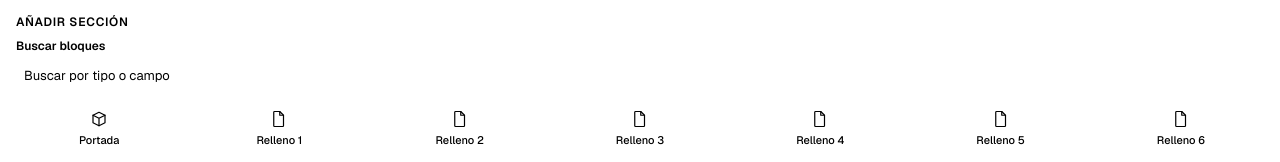
it: VisualPalette.svelte › sin coincidencias muestra vacío y conserva el buscador
Type "galeria" into the search field labelled "Buscar bloques". click: (640, 75)
box: [12,58,1268,92]
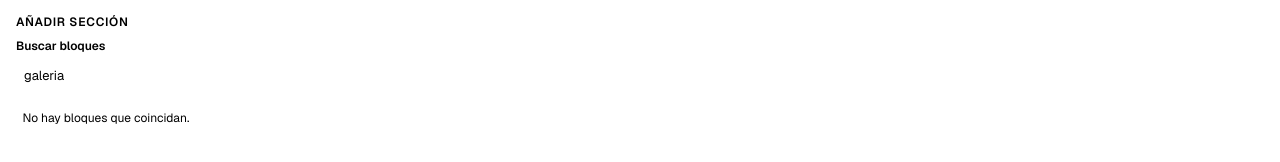
Result: the button "Portada" is gone
Result: the text "No hay bloques que coincidan." is shown at [22,110,189,126]
